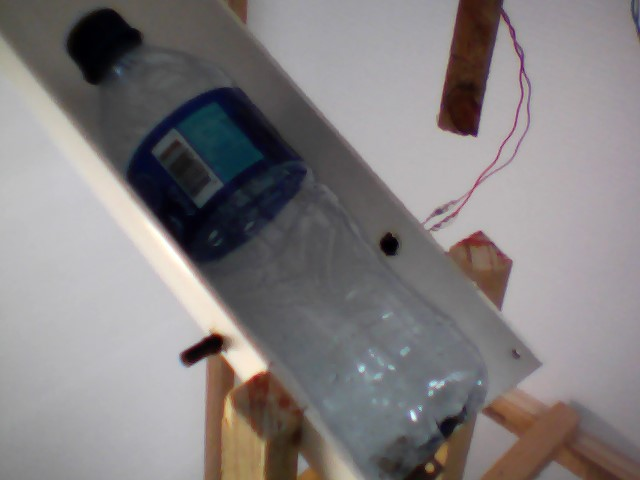plastico: (61, 4, 494, 480)
